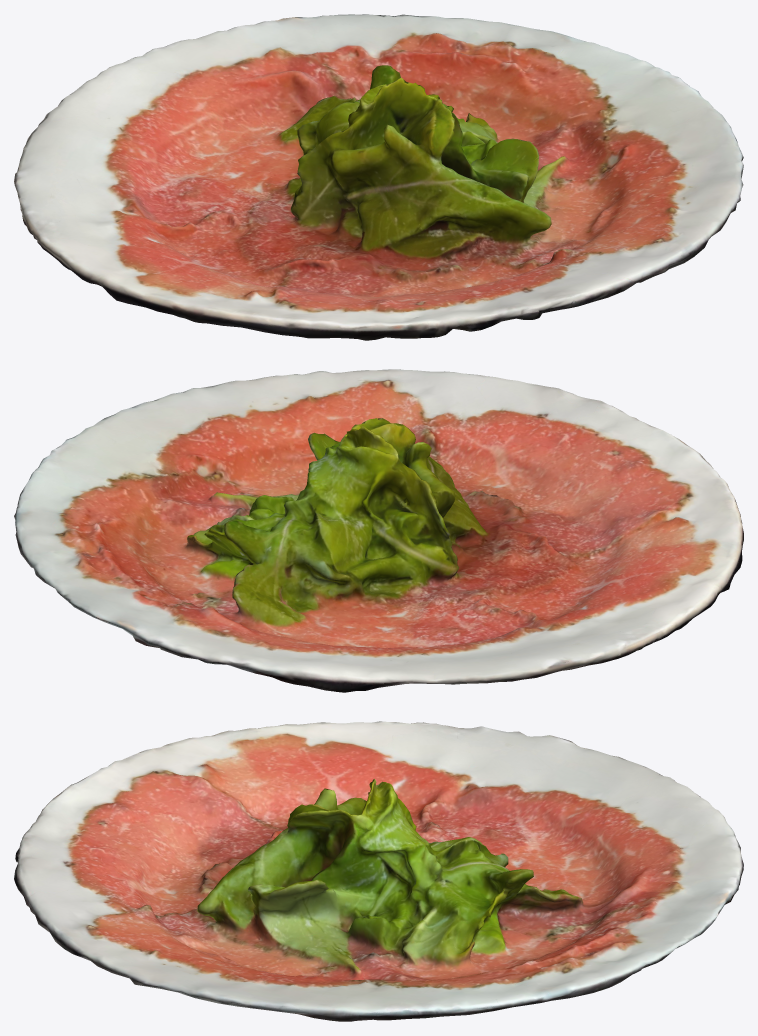
The model's file is carpaccio-de-boeuf.glb.
The picture shows the model from 3 angles, top to bottom: view 1: azimuth 30°, elevation 25°; view 2: azimuth 150°, elevation 25°; view 3: azimuth 270°, elevation 25°; orthographic projection.
Visible parts, largest first — view 1: ObjectCapture; view 2: ObjectCapture; view 3: ObjectCapture.
Part boxes in pixels (x1=…): ObjectCapture: x1=14, y1=14, x2=743, y2=340; ObjectCapture: x1=14, y1=369, x2=743, y2=692; ObjectCapture: x1=14, y1=721, x2=743, y2=1021.
Size of the model in its own units: 0.3067 by 0.0642 by 0.3077.
1 material, 1 textured.
